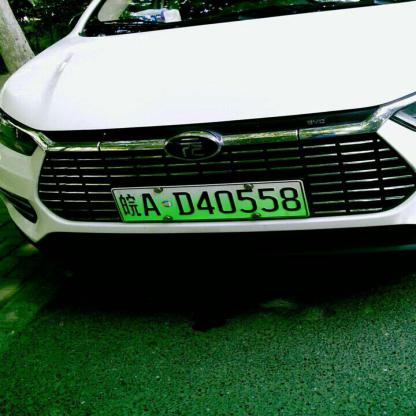lp: (108, 180, 307, 223)
